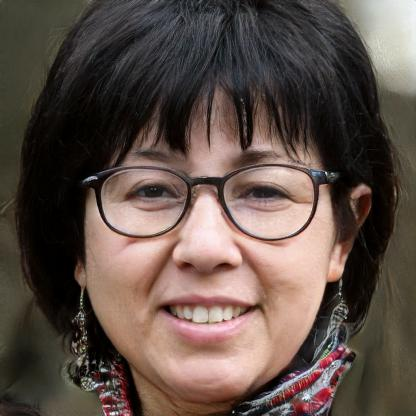glasses: (86, 160, 330, 245)
